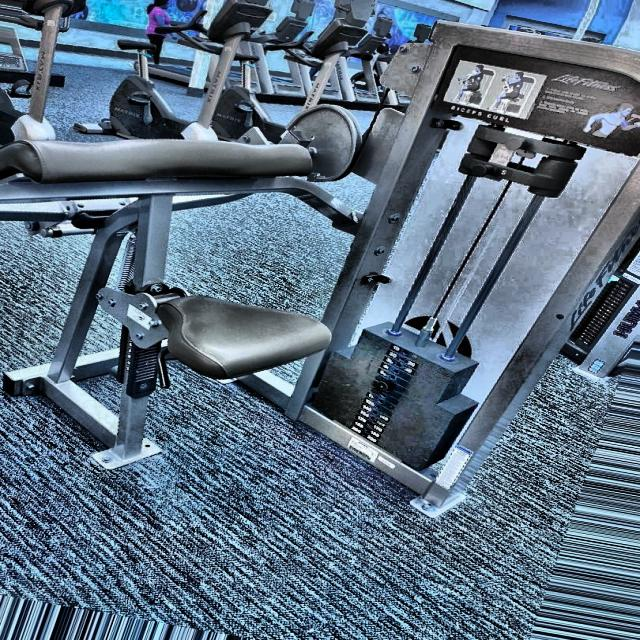bicep_curl_machine: (0, 10, 465, 455), (442, 50, 640, 144)
